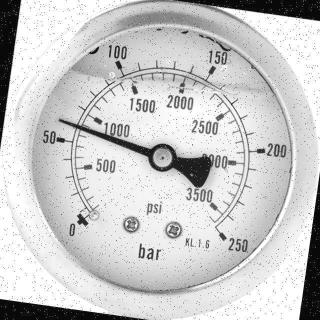gauge: (0, 0, 320, 320), (58, 199, 100, 244), (149, 142, 176, 172), (210, 225, 238, 253), (55, 114, 69, 128)
